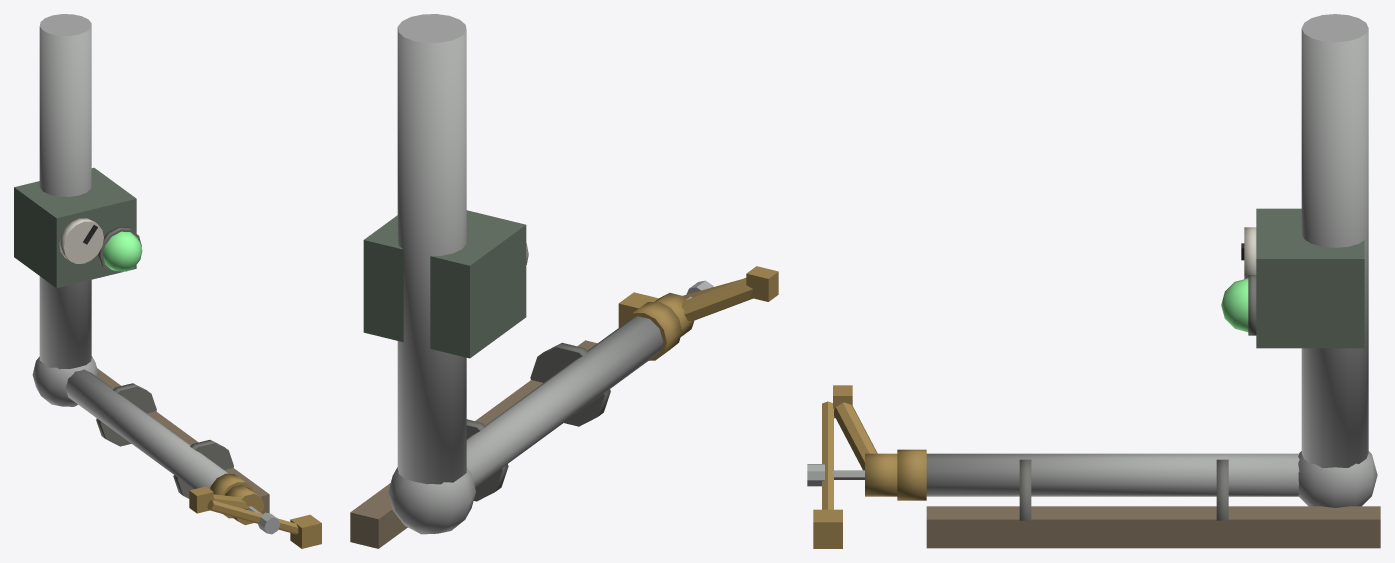
File: sprinkler_auto_on.obj
The picture shows the model from 3 angles, left to right: view 1: azimuth 30°, elevation 25°; view 2: azimuth 150°, elevation 25°; view 3: azimuth 270°, elevation 25°; orthographic projection. The views are drawn at different scales.
Visible parts, largest first — view 1: pipe4, timer, riser, elbow, timer_dial, timer_lamp_on, tie0.16, stake, tie0.36, head_weight, head_arm, head_body (+3 smaller); view 2: pipe4, timer, riser, elbow, stake, tie0.36, head_nozzle, head_bearing, head_spoon, tie0.16, head_weight, head_body; view 3: pipe4, stake, riser, timer, elbow, head_bearing, head_body, head_nozzle, head_arm, head_weight, timer_lamp_on, tie0.16 (+1 smaller).
Part boxes in pixels (x1=…): pipe4: x1=39, y1=14, x2=91, y2=369; timer: x1=14, y1=167, x2=136, y2=288; riser: x1=65, y1=369, x2=228, y2=489; elbow: x1=32, y1=356, x2=98, y2=406; timer_dial: x1=59, y1=218, x2=103, y2=263; timer_lamp_on: x1=102, y1=231, x2=142, y2=271; tie0.16: x1=96, y1=383, x2=156, y2=446; stake: x1=97, y1=368, x2=269, y2=514; tie0.36: x1=173, y1=440, x2=233, y2=498; head_weight: x1=290, y1=514, x2=321, y2=548; head_arm: x1=207, y1=500, x2=298, y2=534; head_body: x1=225, y1=484, x2=264, y2=525; pipe4: x1=397, y1=14, x2=466, y2=484; timer: x1=363, y1=210, x2=526, y2=358; riser: x1=466, y1=316, x2=663, y2=487; elbow: x1=388, y1=467, x2=475, y2=534; stake: x1=350, y1=340, x2=597, y2=548; tie0.36: x1=530, y1=342, x2=610, y2=426; head_nozzle: x1=681, y1=278, x2=753, y2=321; head_bearing: x1=622, y1=301, x2=681, y2=360; head_spoon: x1=746, y1=266, x2=778, y2=301; tie0.16: x1=466, y1=419, x2=508, y2=501; head_weight: x1=618, y1=292, x2=658, y2=327; head_body: x1=655, y1=293, x2=694, y2=336; pipe4: x1=1301, y1=14, x2=1368, y2=468; stake: x1=926, y1=506, x2=1380, y2=548; riser: x1=926, y1=453, x2=1299, y2=496; timer: x1=1256, y1=208, x2=1364, y2=348; elbow: x1=1298, y1=451, x2=1377, y2=507; head_bearing: x1=897, y1=449, x2=926, y2=500; head_body: x1=865, y1=453, x2=897, y2=496; head_nozzle: x1=834, y1=402, x2=877, y2=470; head_arm: x1=822, y1=401, x2=833, y2=509; head_weight: x1=813, y1=509, x2=842, y2=548; timer_lamp_on: x1=1221, y1=278, x2=1248, y2=332; tie0.16: x1=1216, y1=459, x2=1228, y2=520.
Bounding box in the file's own units: 0.1751 × 0.5569 × 0.581.
9 materials, 9 textured.
